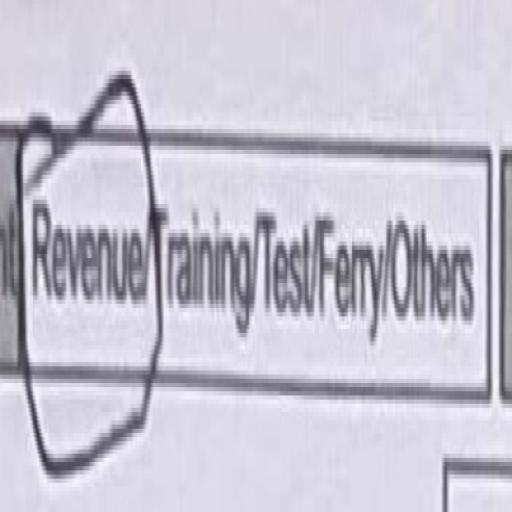check: (17, 50, 148, 483)
